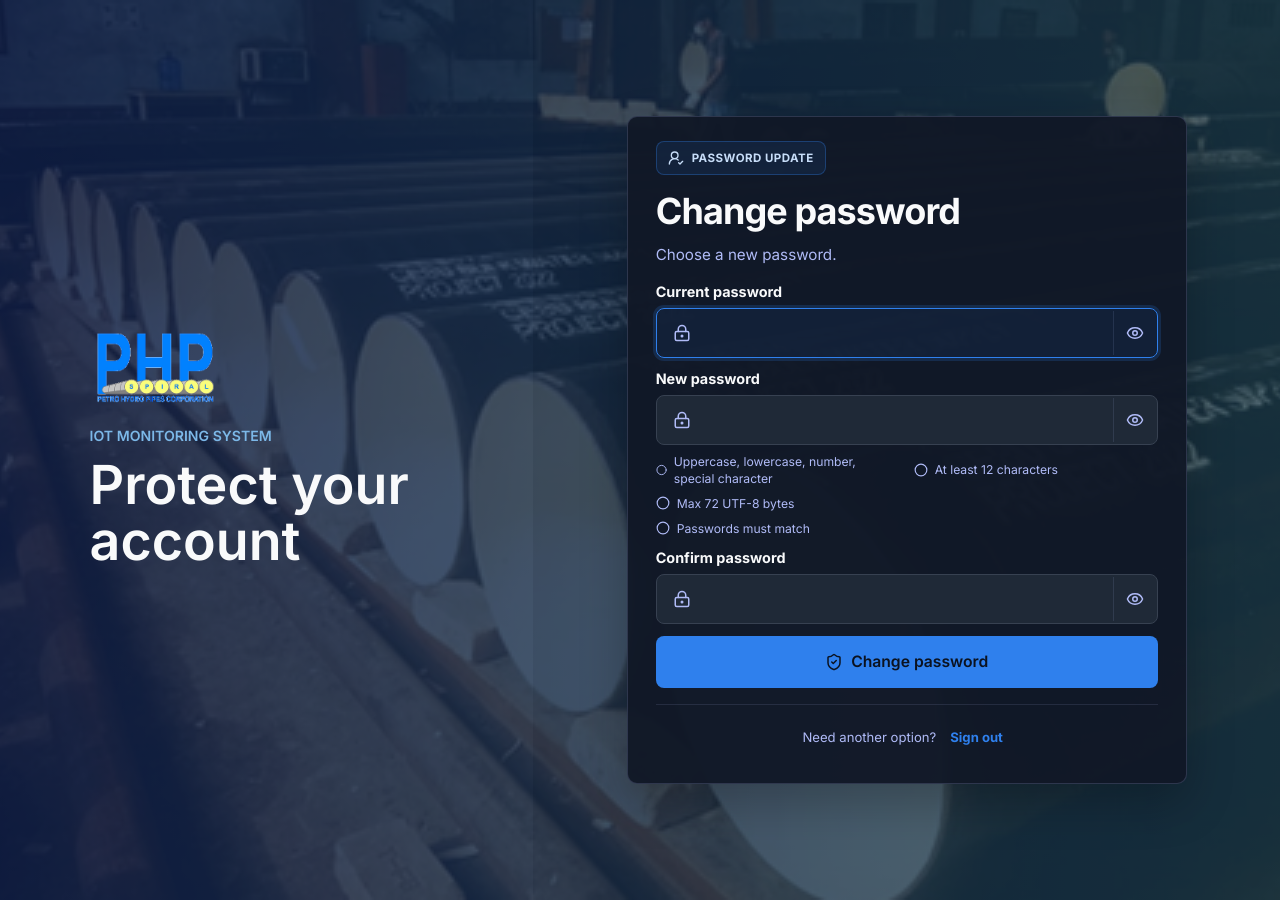
Test: explains rate limits without clearing the password form
Type "old" into the password field labelled "Current password".
click(903, 333); type("old")  # box 703,309 -> 1103,357
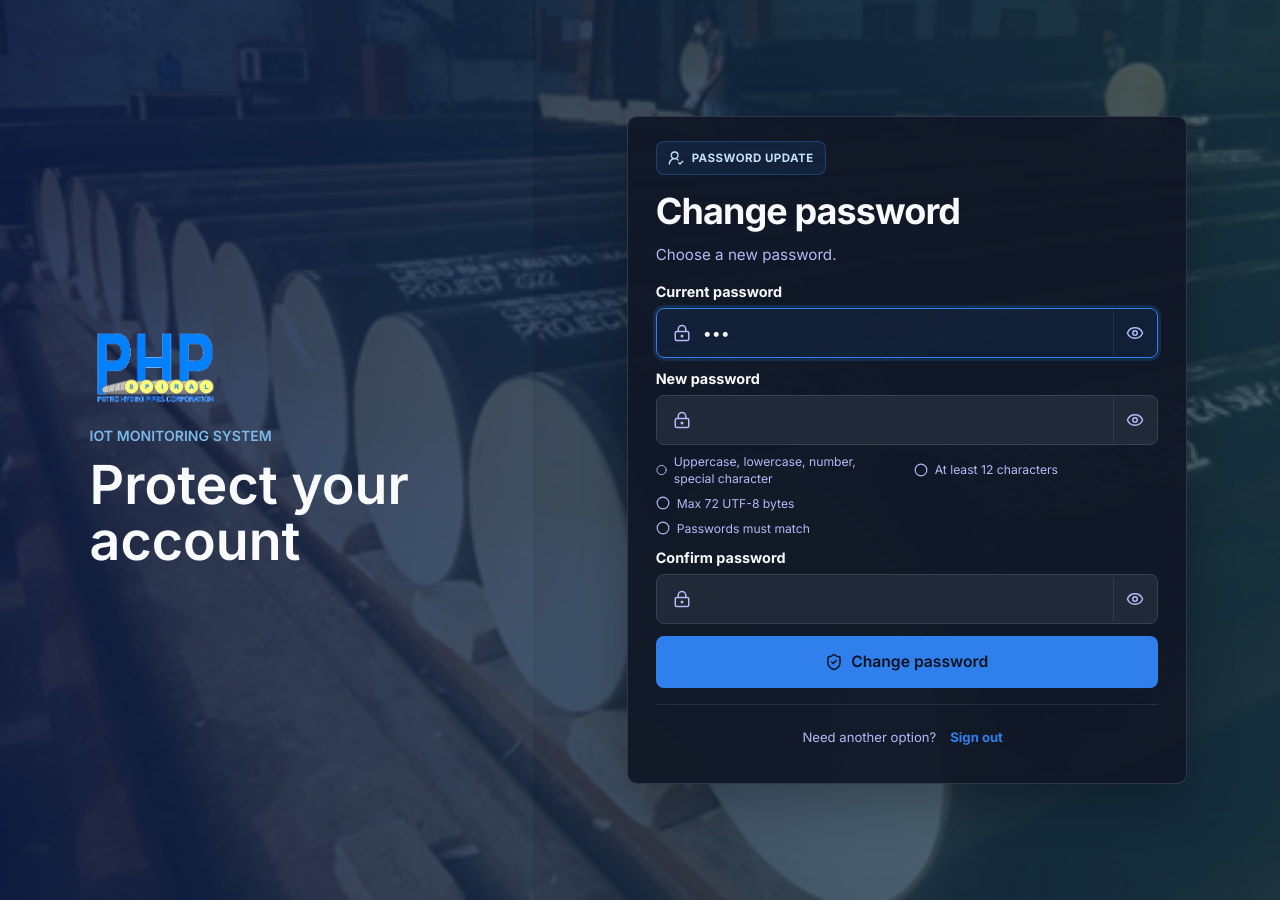
Type "Valid-password1!" into the password field labelled "New password".
click(903, 420); type("Valid-password1!")  # box 703,396 -> 1103,444
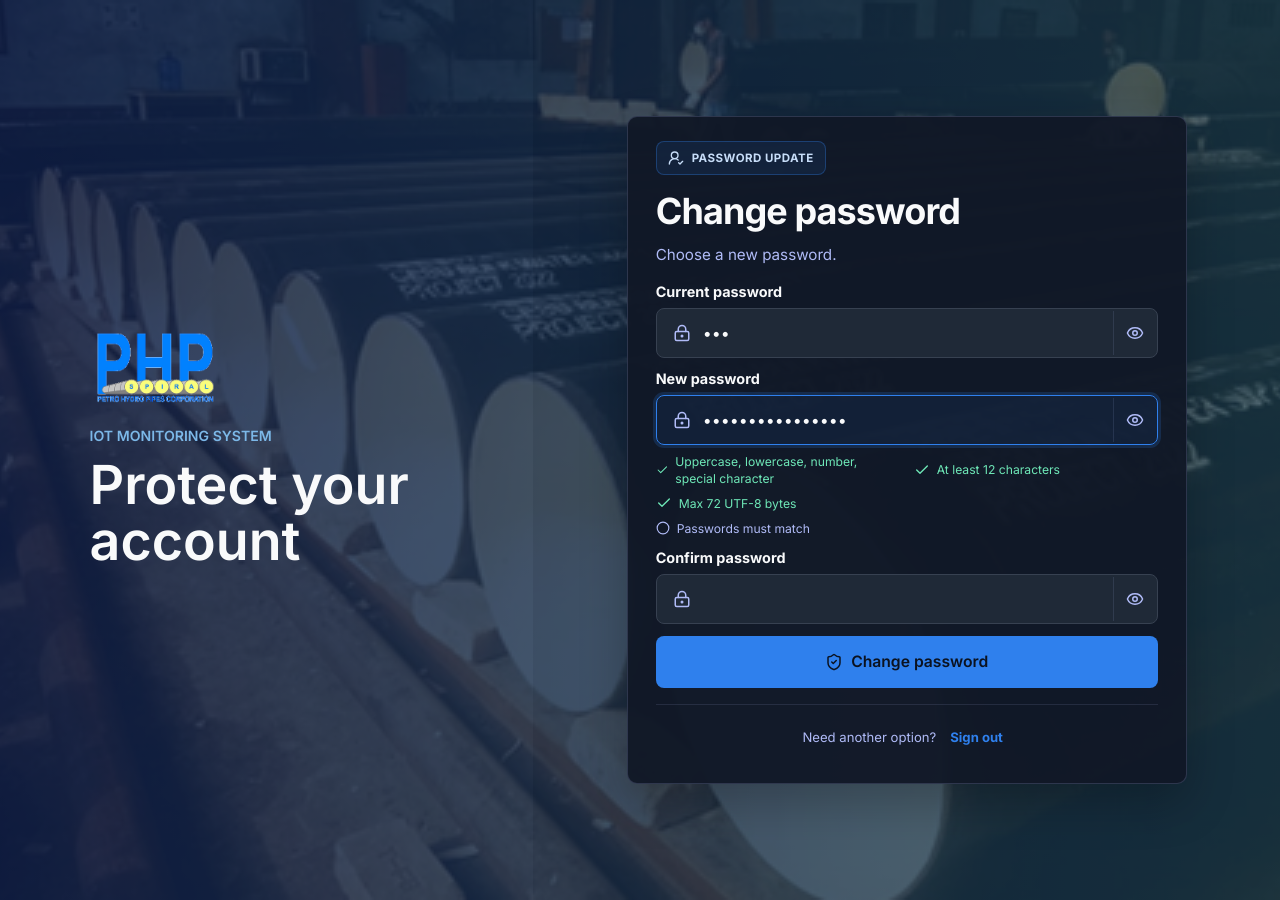
Type "Valid-password1!" into the password field labelled "Confirm password".
click(903, 599); type("Valid-password1!")  # box 703,575 -> 1103,623
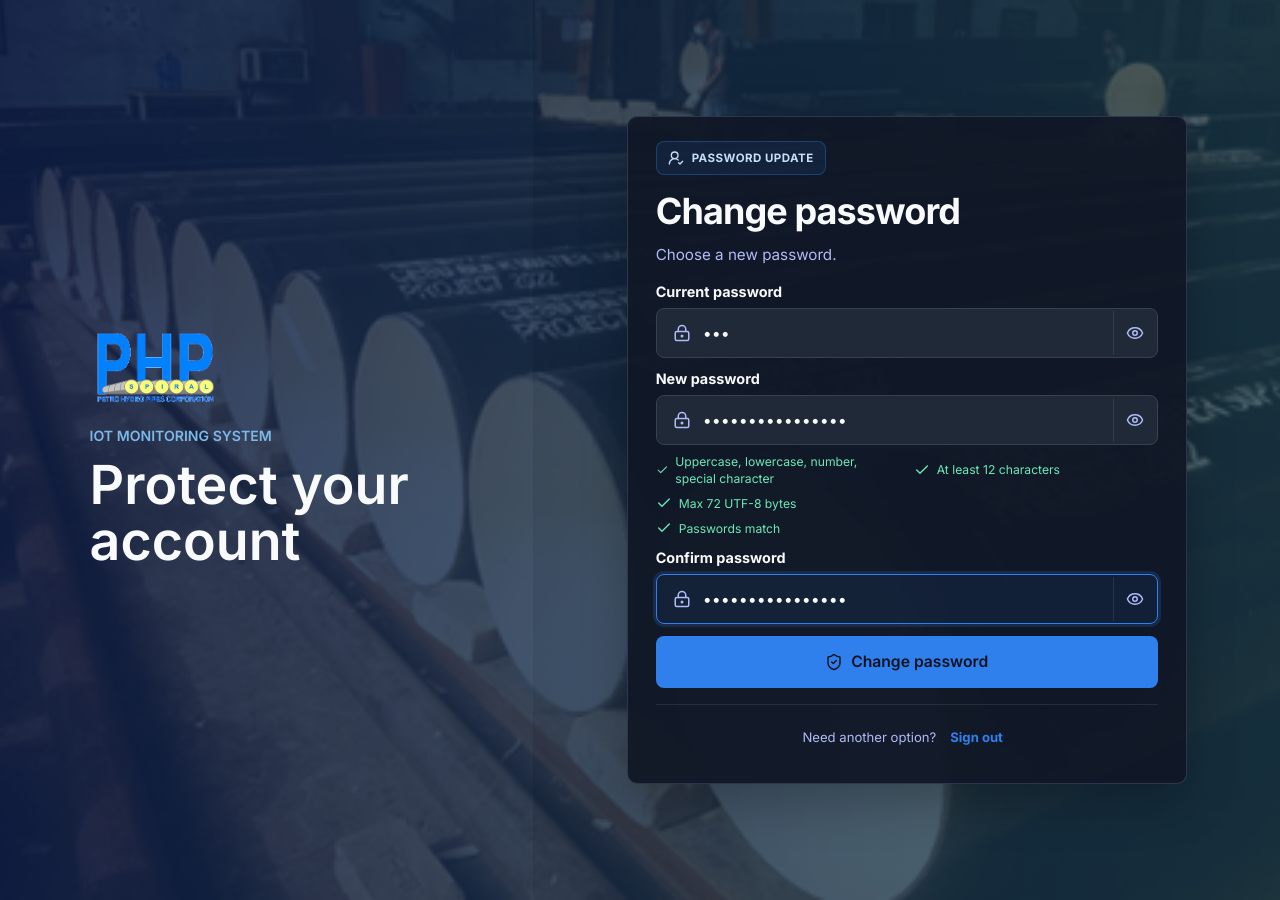
Click the button "Change password".
click(907, 662)  # box 656,636 -> 1158,688
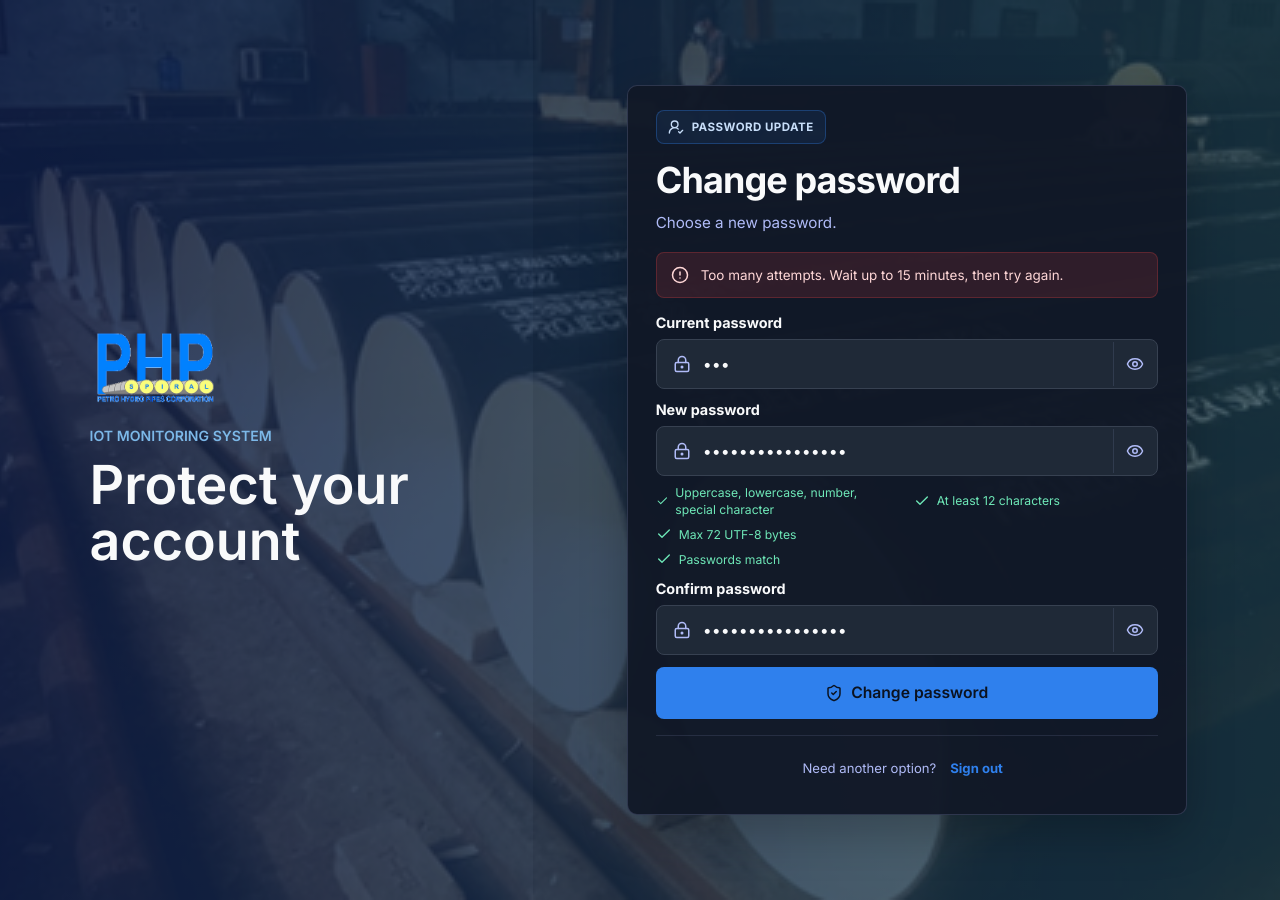
Expected: the message reads "Too many attempts. Wait up to 15 minutes, then try again.", 701,267 -> 1064,283
